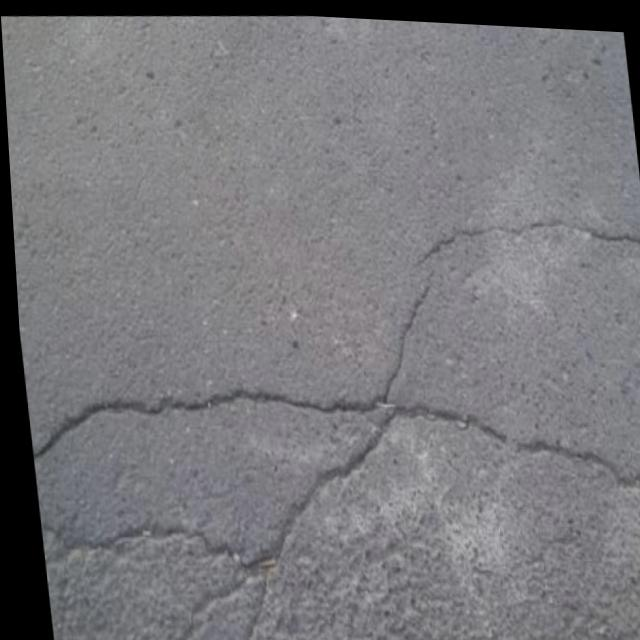Crack: (393, 375, 640, 503), (21, 361, 378, 447), (400, 186, 640, 283), (41, 497, 249, 584)
